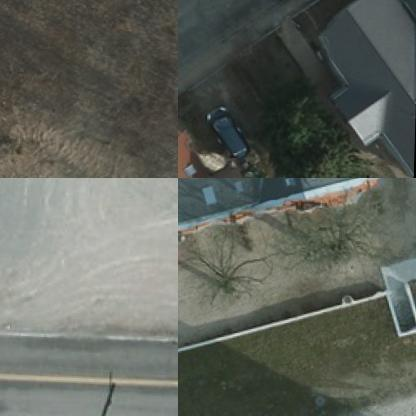car: (211, 98, 250, 157)
